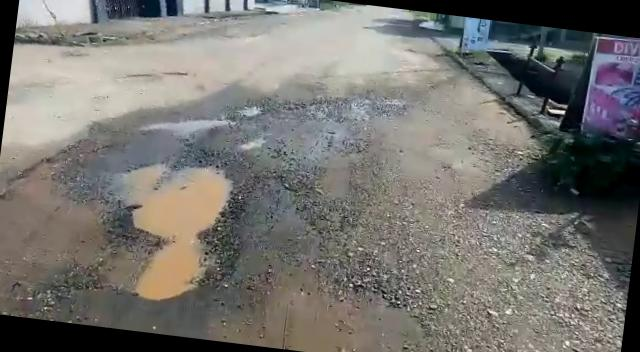pothole: (102, 154, 236, 308), (238, 101, 265, 117)
